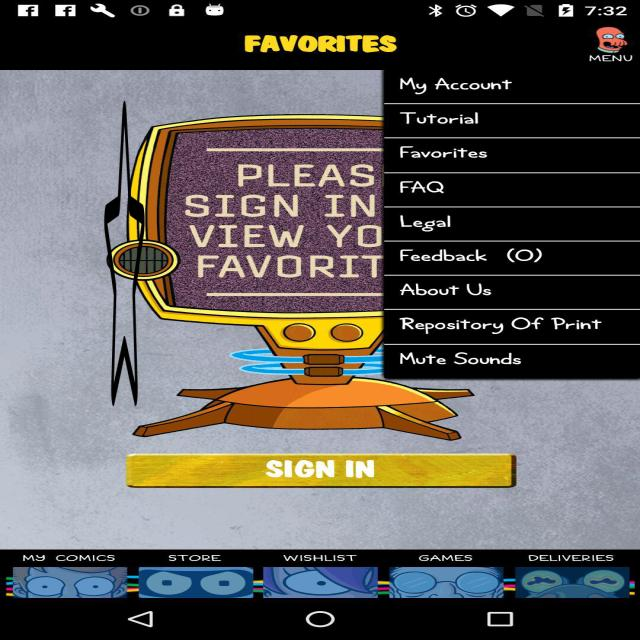forced continuity: (104, 94, 145, 413)
